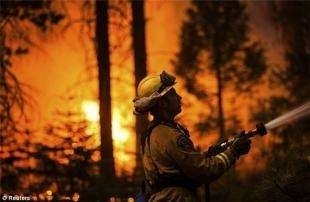fire: (76, 94, 135, 163)
